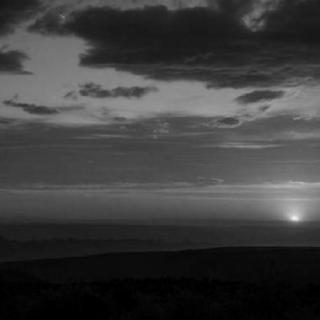Altocumulus: (0, 1, 320, 234)
